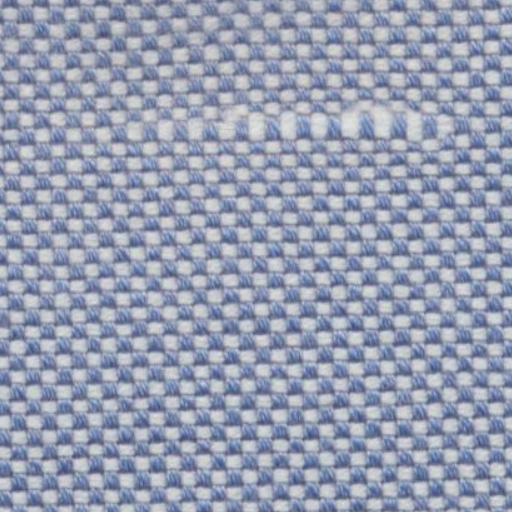DaiSha: (100, 102, 460, 154)
